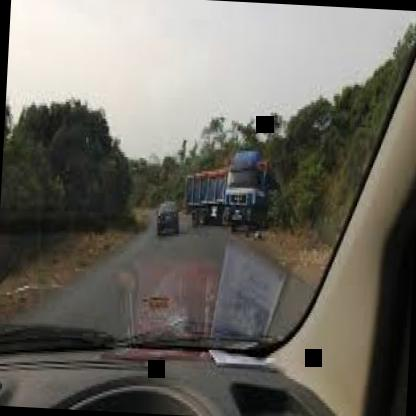car: (154, 189, 184, 242)
